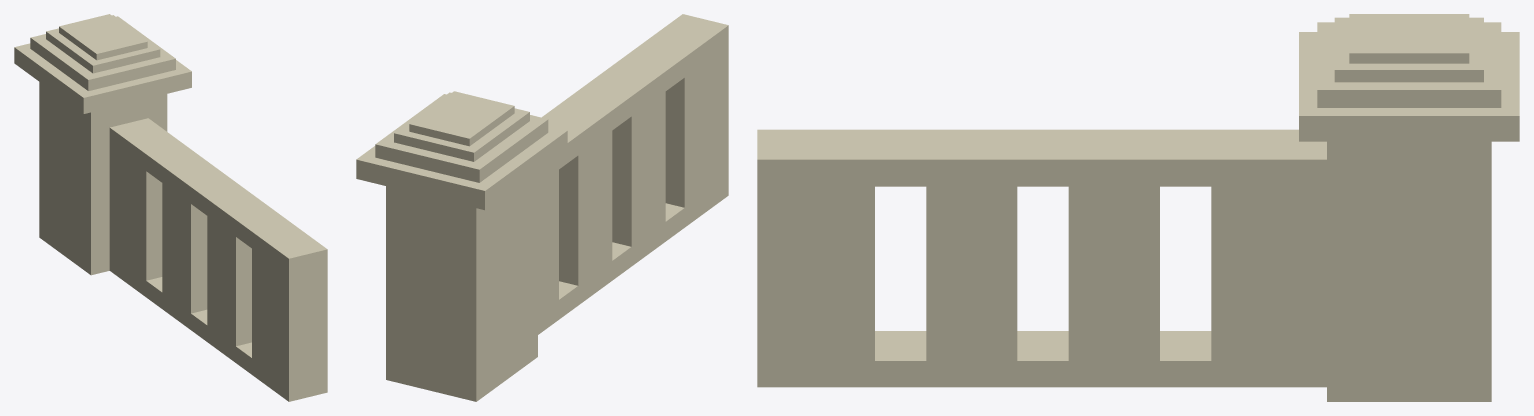
File: pagar.fbx
3 renders of one model, left to right at view 1: azimuth 30°, elevation 25°; view 2: azimuth 150°, elevation 25°; view 3: azimuth 270°, elevation 25°, orthographic. The views are drawn at different scales.
Parts seen in each view (by area): view 1: Cube.002; view 2: Cube.002; view 3: Cube.002.
Part boxes in pixels (box(x1,y1,x2,y2)): Cube.002: box(14, 14, 327, 401); Cube.002: box(356, 14, 728, 401); Cube.002: box(757, 14, 1519, 401).
Size of the model in its own units: 106 by 198 by 404.
